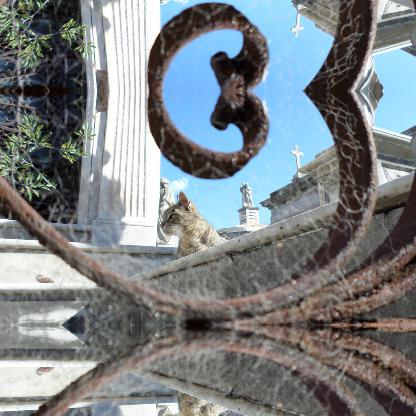Cat: (160, 191, 230, 259), (160, 391, 231, 415)
